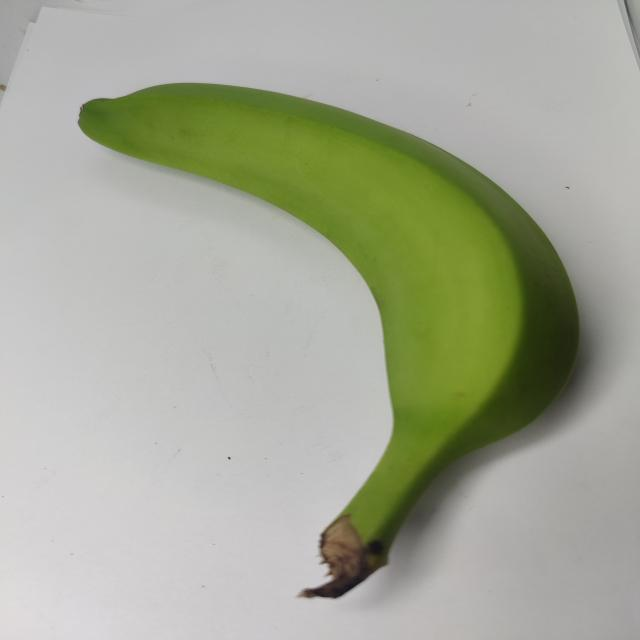raw: (51, 58, 607, 617)
